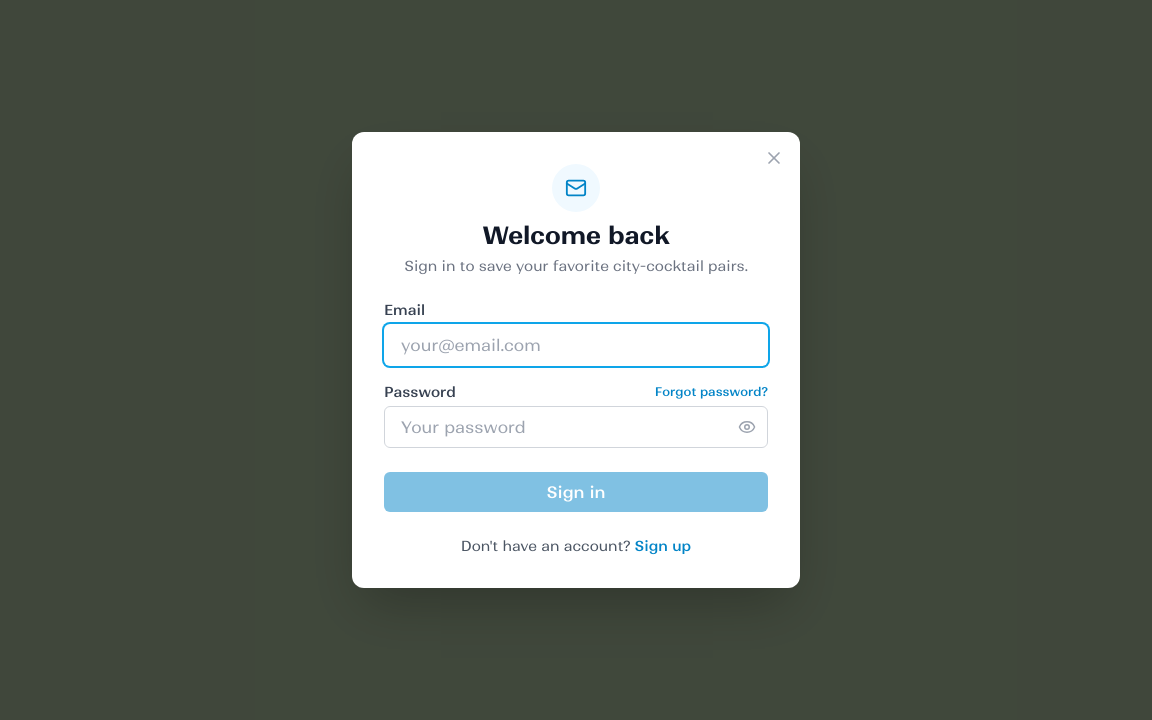
Test: AuthModal (standard auth flows) › shows a friendly error when credentials are wrong
Type "test@example.com" into the field labelled "Email" at (576, 345), box x1=384 y1=324 x2=768 y2=366
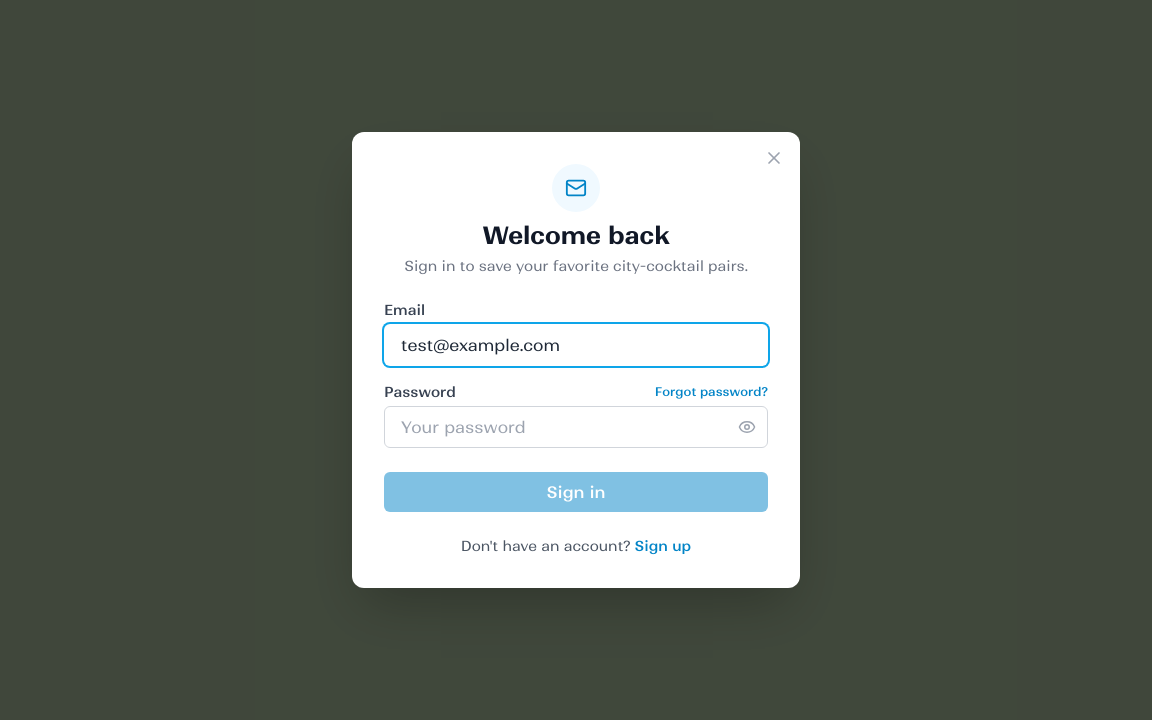
Type "wrongpass" into the password field labelled "Password" at (576, 427), box x1=384 y1=406 x2=768 y2=448
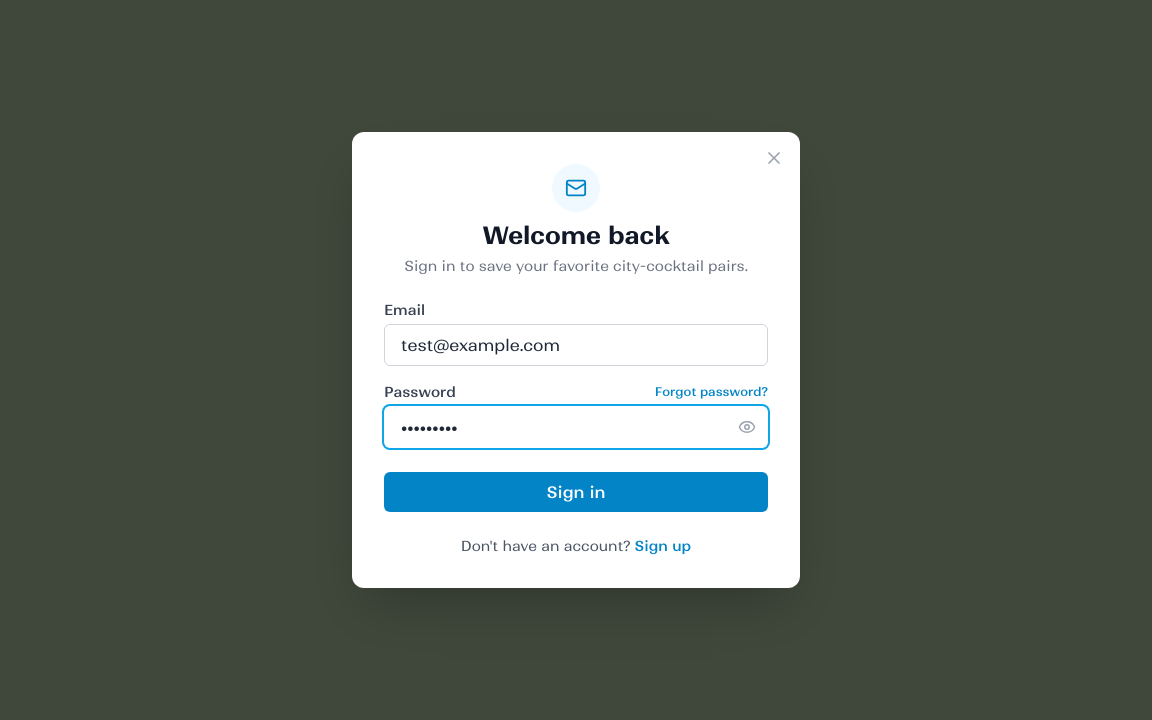
Click the button "Sign in" at (576, 492), box x1=384 y1=472 x2=768 y2=512
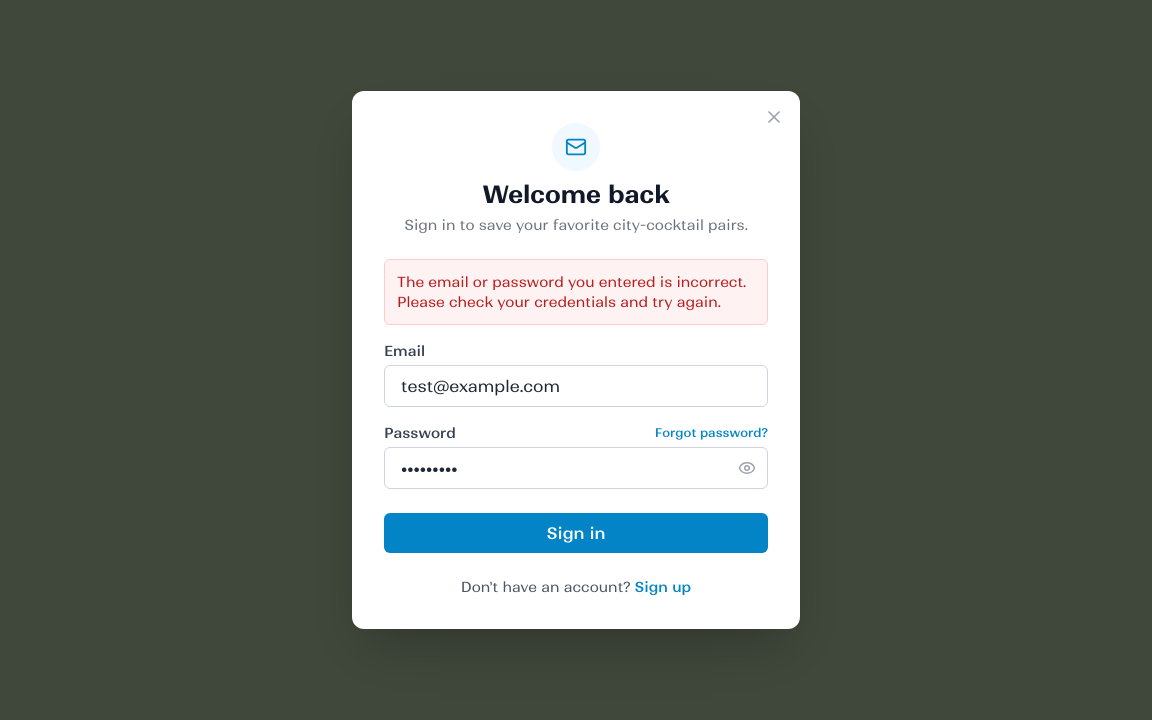
Expected: the text "incorrect" is shown, x1=397 y1=273 x2=746 y2=311
